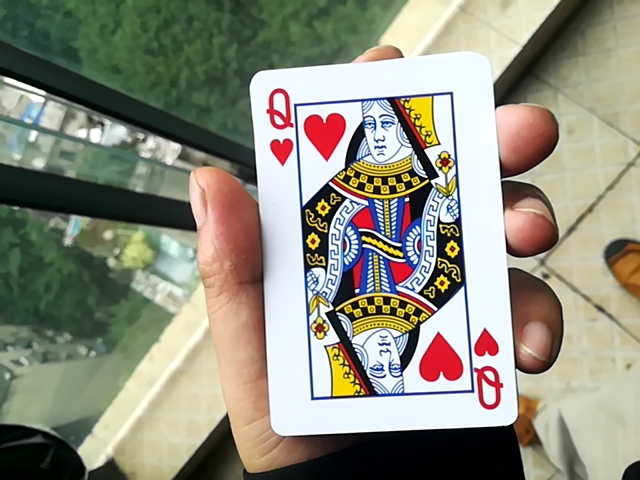hx q: (235, 40, 515, 433)
